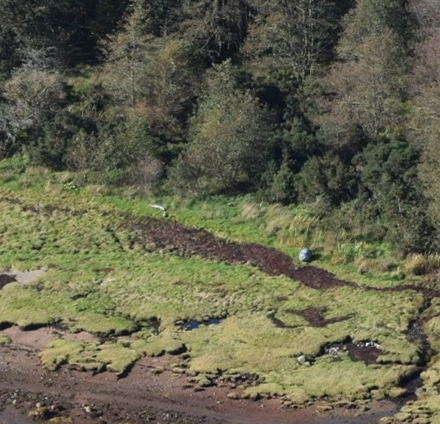white_in_green: (283, 232, 330, 272)
